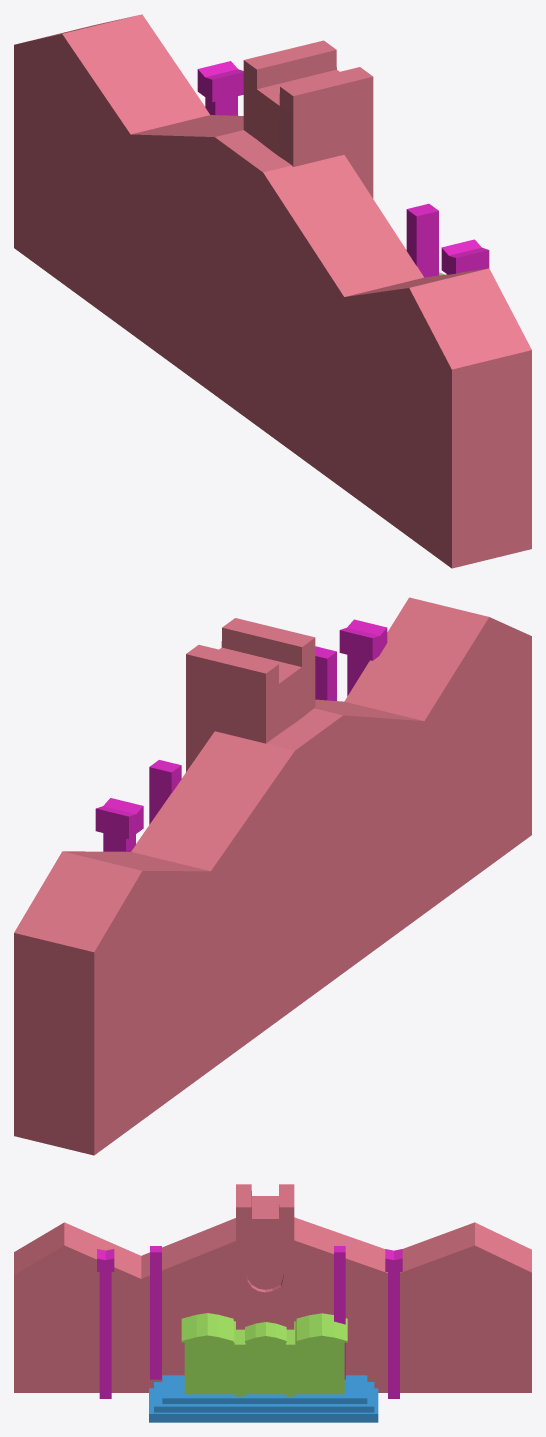
Rendered from MERCAOPABLETE.fbx.
3 views of the same model, one above another, from view 1: azimuth 30°, elevation 25°; view 2: azimuth 150°, elevation 25°; view 3: azimuth 270°, elevation 25° (orthographic). The views are drawn at different scales.
Visible parts, largest first — view 1: Cube, Cube.005, Cube.001, Cube.004, Cube.002; view 2: Cube, Cube.005, Cube.004, Cube.002, Cube.003, Cube.001; view 3: Cube, Cube.006, Cube.005, Cube.007, Cube.009, Cube.008, Cube.002, Cube.004, Cube.001, Cube.003.
Part boxes in pixels (left/top/right/bottom): Cube: left=14, top=14, right=531, bottom=568; Cube.005: left=243, top=40, right=373, bottom=198; Cube.001: left=406, top=203, right=438, bottom=277; Cube.004: left=197, top=61, right=243, bottom=115; Cube.002: left=441, top=239, right=489, bottom=274; Cube: left=14, top=597, right=531, bottom=1155; Cube.005: left=186, top=618, right=315, bottom=771; Cube.004: left=95, top=798, right=143, bottom=851; Cube.002: left=339, top=619, right=387, bottom=696; Cube.003: left=149, top=760, right=181, bottom=824; Cube.001: left=315, top=646, right=336, bottom=700; Cube: left=14, top=1217, right=531, bottom=1392; Cube.006: left=181, top=1313, right=347, bottom=1396; Cube.005: left=236, top=1184, right=294, bottom=1329; Cube.007: left=162, top=1375, right=367, bottom=1403; Cube.009: left=149, top=1388, right=378, bottom=1422; Cube.008: left=154, top=1382, right=374, bottom=1412; Cube.002: left=97, top=1249, right=114, bottom=1398; Cube.004: left=385, top=1249, right=402, bottom=1398; Cube.001: left=150, top=1246, right=161, bottom=1379; Cube.003: left=334, top=1246, right=345, bottom=1379.
Bounding box in the file's own units: 772 × 1324 × 3203.
